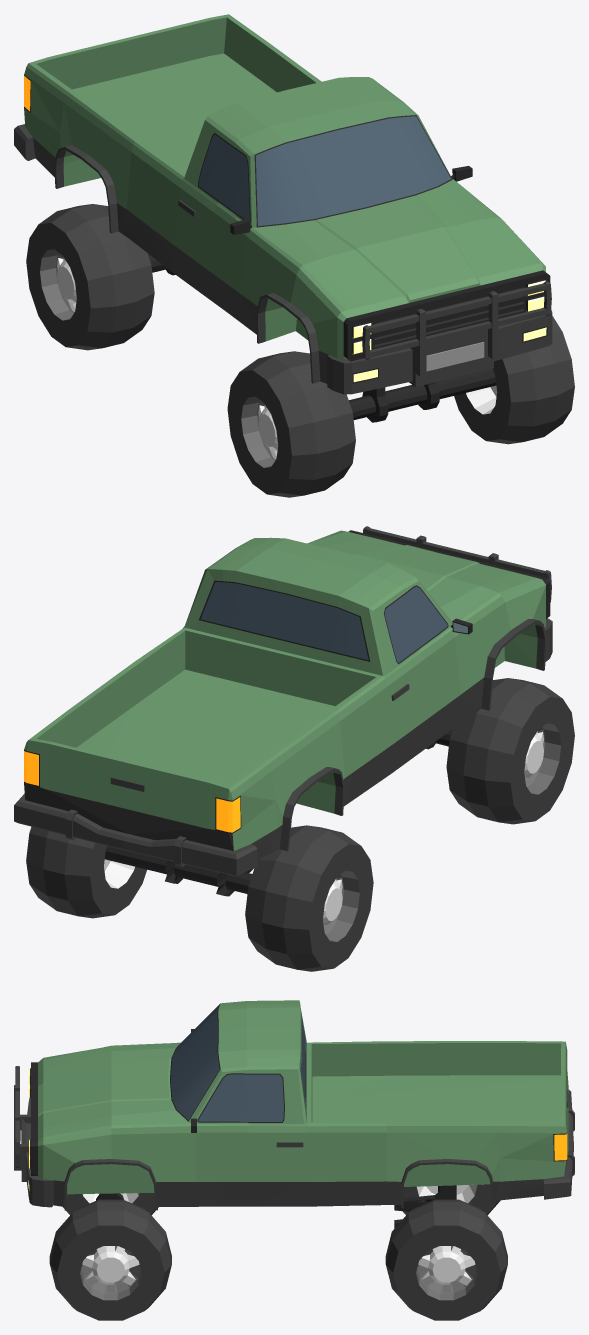
Rendered from Monster_Truck_15.glb.
The picture shows the model from 3 angles, top to bottom: view 1: azimuth 30°, elevation 25°; view 2: azimuth 150°, elevation 25°; view 3: azimuth 270°, elevation 25°; orthographic projection. The views are drawn at different scales.
Visible parts, largest first — view 1: Monster Truck_15, Monster Truck_15 BR Tire, Monster Truck_15 FR Tire, Monster Truck_15 FL Tire; view 2: Monster Truck_15, Monster Truck_15 BR Tire, Monster Truck_15 FR Tire, Monster Truck_15 BL Tire; view 3: Monster Truck_15, Monster Truck_15 BL Tire, Monster Truck_15 FL Tire, Monster Truck_15 BR Tire, Monster Truck_15 FR Tire.
Boxes of the visible parts, x1,y1,x2,y2 form: Monster Truck_15: (14,14,552,422); Monster Truck_15 BR Tire: (26,204,154,350); Monster Truck_15 FR Tire: (227,351,355,497); Monster Truck_15 FL Tire: (454,316,574,444); Monster Truck_15: (14,526,552,896); Monster Truck_15 BR Tire: (245,825,373,971); Monster Truck_15 FR Tire: (446,678,574,824); Monster Truck_15 BL Tire: (26,826,146,918); Monster Truck_15: (14,1000,574,1228); Monster Truck_15 BL Tire: (385,1199,507,1320); Monster Truck_15 FL Tire: (49,1199,171,1320); Monster Truck_15 BR Tire: (403,1184,500,1215); Monster Truck_15 FR Tire: (63,1193,158,1215).
Size of the model in its own units: 2.95 by 2.88 by 6.07.
Materials: 2 (2 with a texture image).
